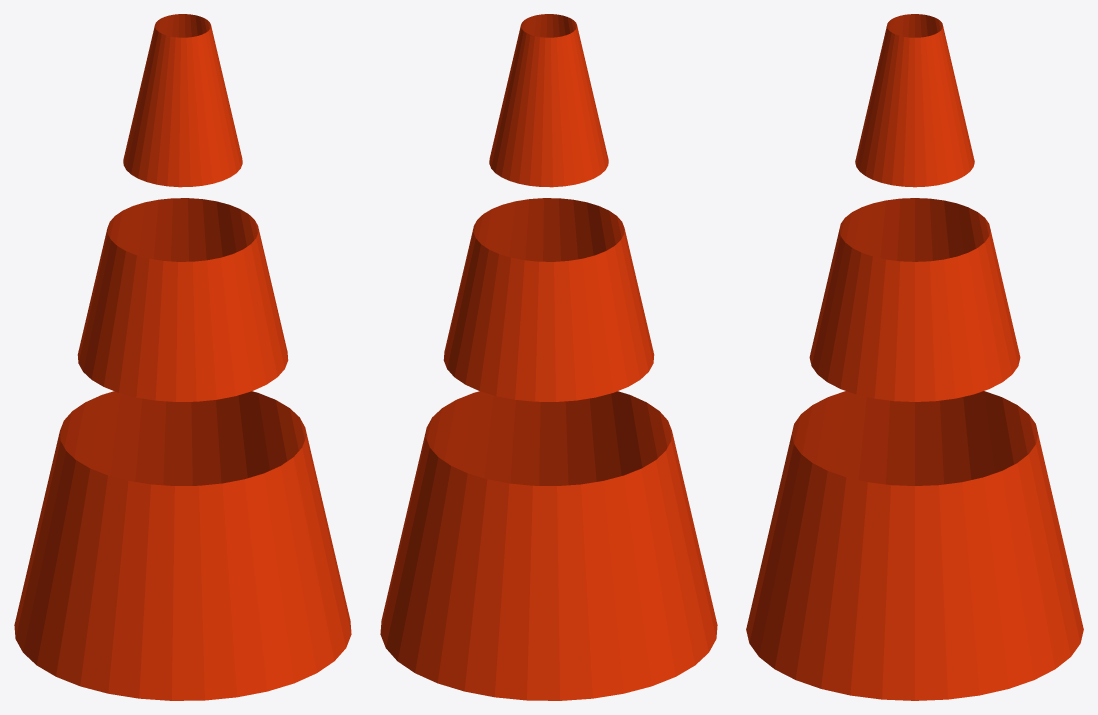
The model's file is orange.dae.
3 renders of one model, left to right at view 1: azimuth 30°, elevation 25°; view 2: azimuth 150°, elevation 25°; view 3: azimuth 270°, elevation 25°, orthographic.
Visible parts, largest first — view 1: node; view 2: node; view 3: node.
Part boxes in pixels (x1=…): node: x1=14, y1=14, x2=351, y2=700; node: x1=380, y1=14, x2=717, y2=700; node: x1=746, y1=14, x2=1083, y2=700.
Bounding box in the file's own units: 0.36 × 0.36 × 0.71.
